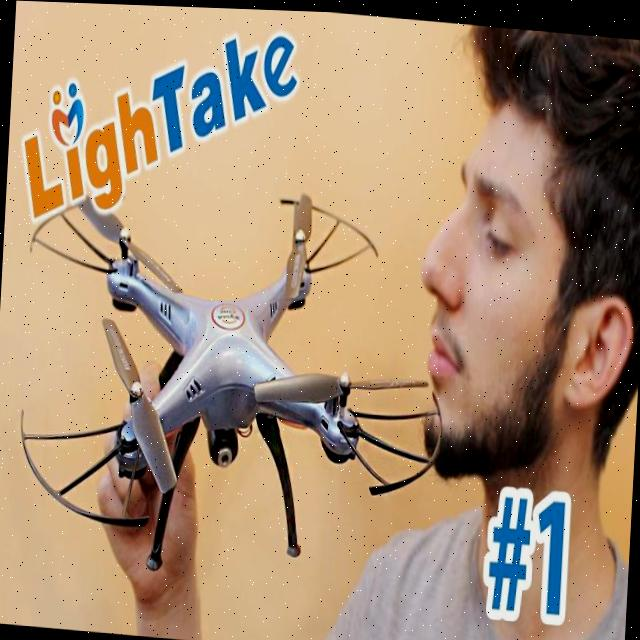drone: (11, 164, 466, 571)
